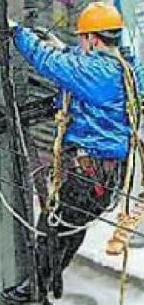boots: (0, 281, 51, 305)
gloves: (33, 25, 67, 50), (0, 13, 19, 31)
hard-hat: (71, 0, 125, 34)
vest: (10, 21, 142, 159)
